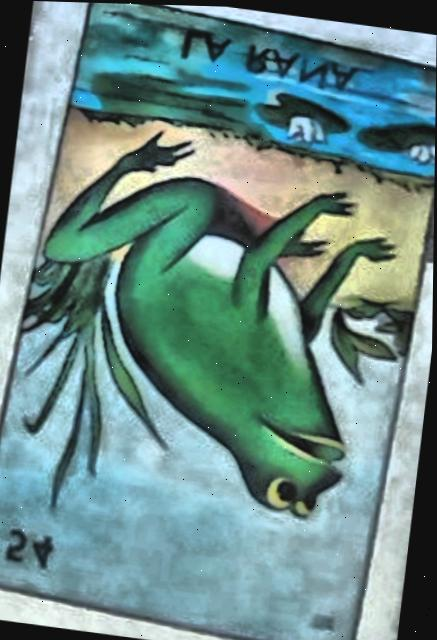La Rana: (0, 2, 436, 640)
